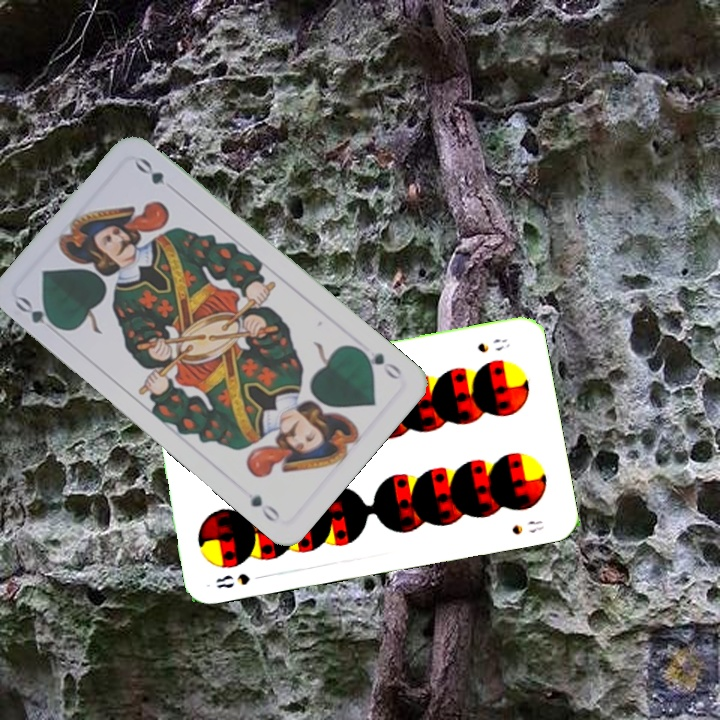GO: (11, 292, 65, 333), (353, 343, 405, 382)
S8: (212, 569, 252, 591), (473, 334, 512, 356)
